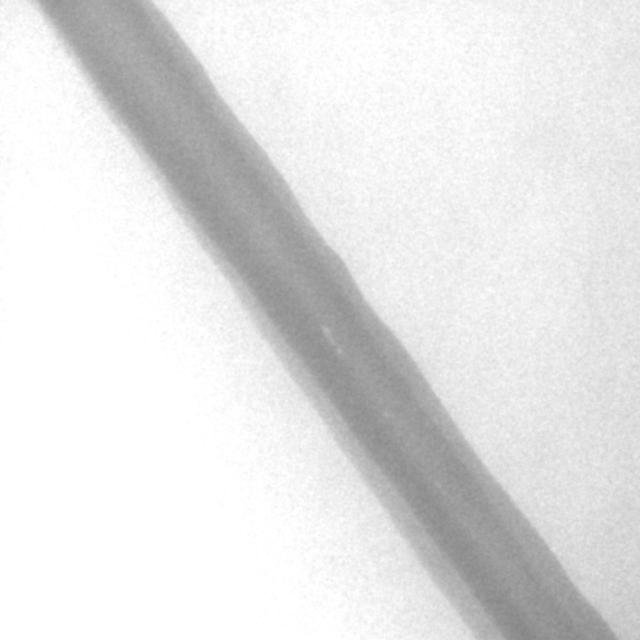air hole: (319, 325, 331, 339), (334, 345, 343, 358)
